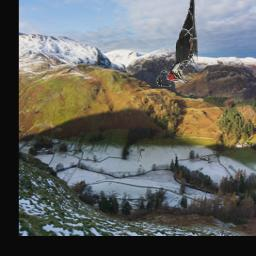Crow: (156, 71, 171, 88)
Woodpecker: (168, 0, 199, 84)
